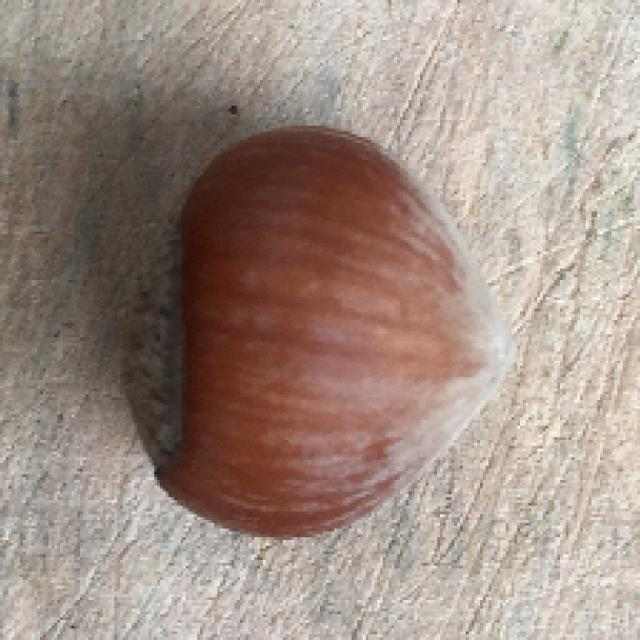qualityHazelnut: (110, 119, 516, 547)
